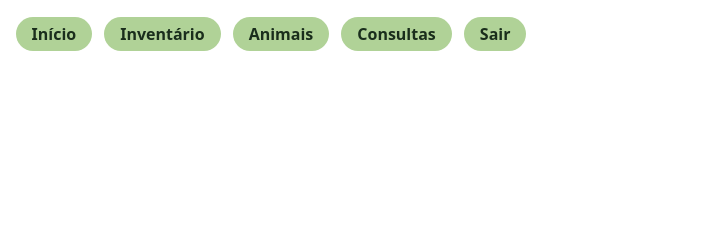
Test: Menu component › shows logout confirmation card when Sair button is clicked and handles cancel
Click the button "Sair" at point(495, 34), box [464, 17, 526, 51]
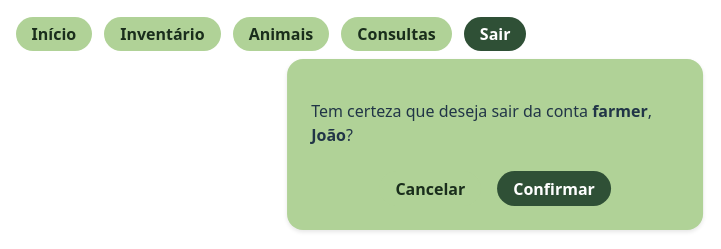
Expected: the text "Tem certeza que deseja sair da conta farmer, João?" is shown, [311, 99, 679, 147]
# Botão Cancelar na confirmação
Click the button "Cancelar" at point(430, 189), box [379, 171, 481, 206]
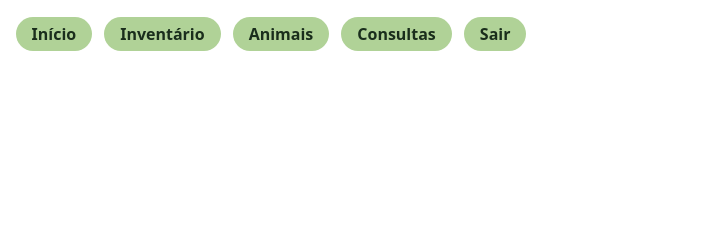
Expected: the text "Tem certeza que deseja sair da conta" is gone
